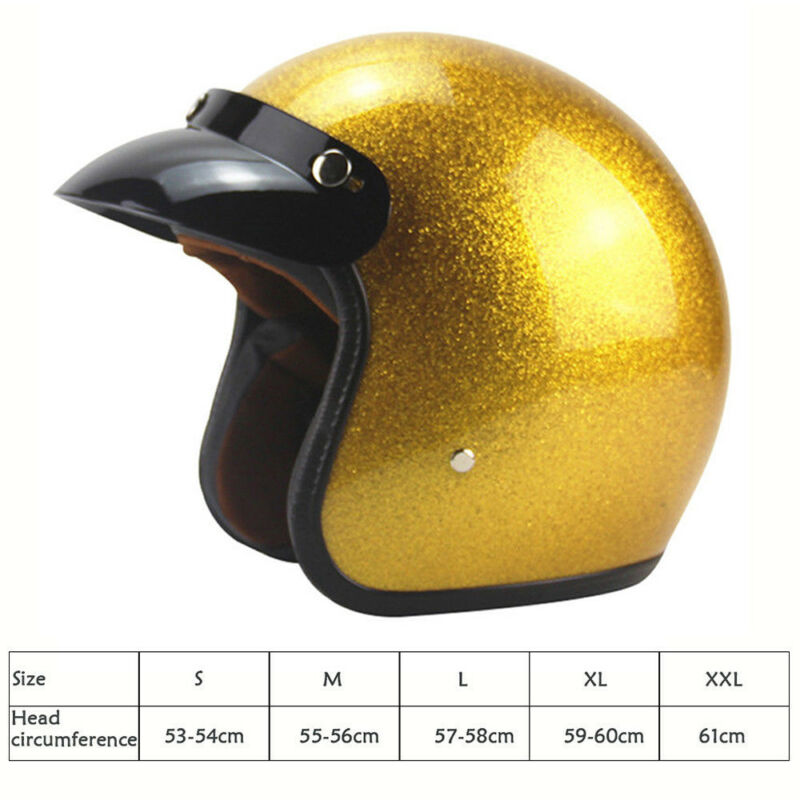with_helmet: (58, 29, 735, 613)
